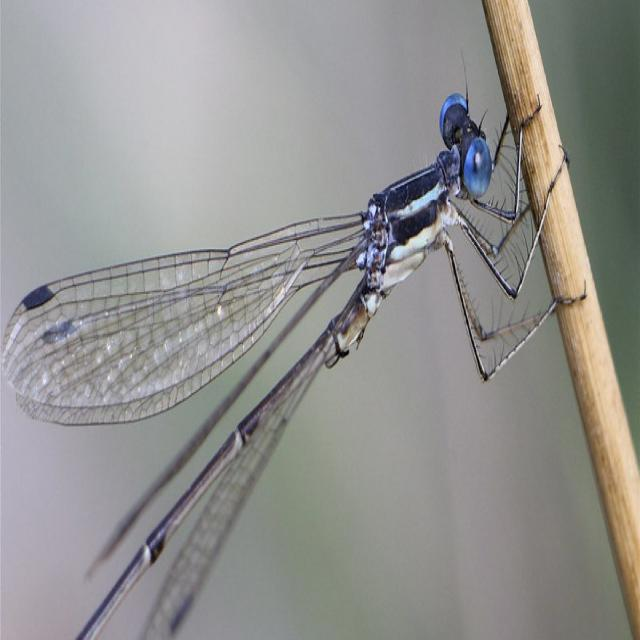dragonfly: (2, 93, 585, 639)
